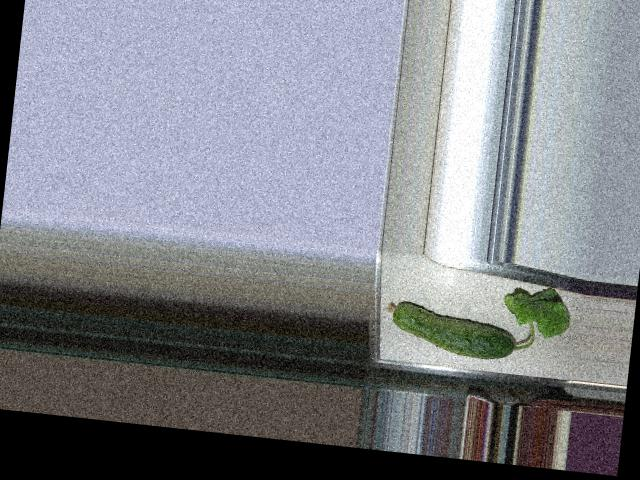cucumber: (382, 300, 520, 362)
